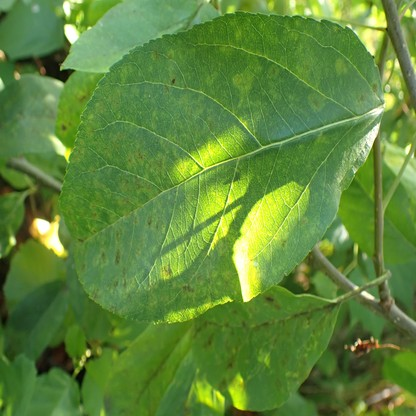scab: (68, 23, 378, 318), (194, 297, 340, 388), (134, 325, 192, 416), (58, 86, 94, 132), (12, 106, 53, 125)
